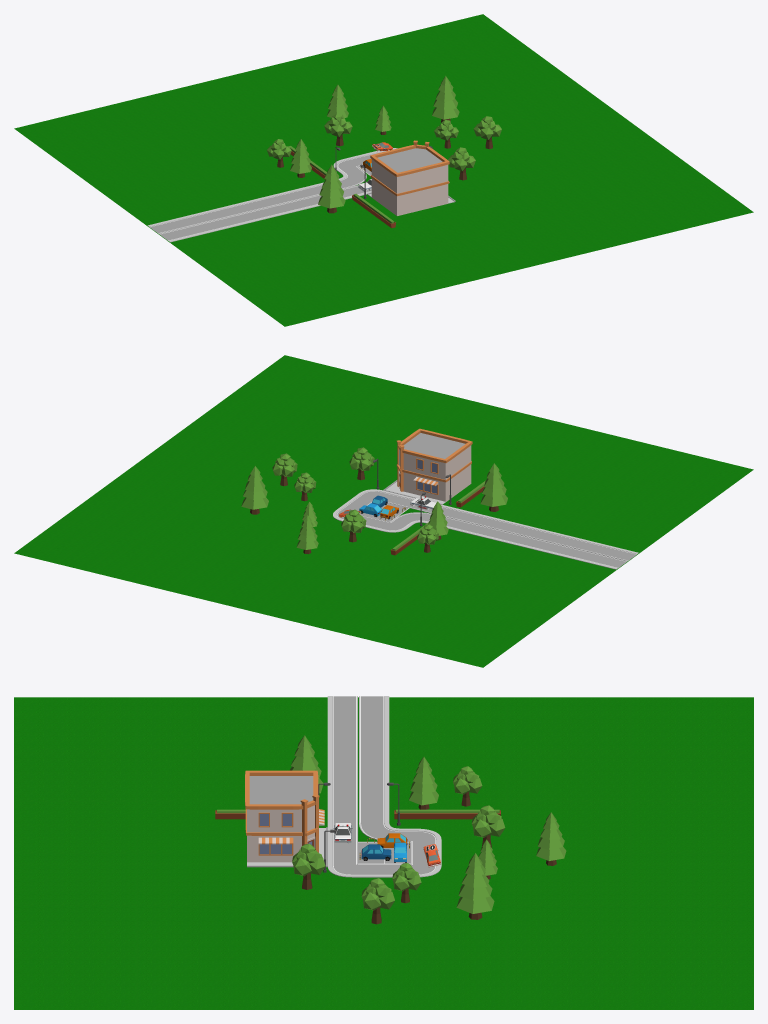
3 renders of one model, top to bottom at view 1: azimuth 30°, elevation 25°; view 2: azimuth 150°, elevation 25°; view 3: azimuth 270°, elevation 25°, orthographic. The views are drawn at different scales.
Visible parts, largest first — view 1: grass, road-asphalt_mat, house-facade01_mat, trees-plant_mat, trees-plant_mat.001, road-board_mat, house-facade02_mat, house-asphalt_mat, road-lines_mat; view 2: grass, road-asphalt_mat, trees-plant_mat, house-facade01_mat, road-board_mat, trees-plant_mat.001, house-facade02_mat, house-asphalt_mat, road-lines_mat; view 3: grass, road-asphalt_mat, trees-plant_mat, trees-plant_mat.001, road-board_mat, house-facade02_mat, house-facade01_mat, house-asphalt_mat, trees-bark_mat, road-lines_mat, plants-vase_mat, house-windows (+1 smaller).
Part boxes in pixels (x1,y1,x2,y2): grass: (14,14,753,326); road-asphalt_mat: (150,151,386,240); house-facade01_mat: (371,159,449,215); trees-plant_mat: (290,76,459,208); trees-plant_mat.001: (267,113,501,171); road-board_mat: (147,148,397,242); house-facade02_mat: (370,140,449,196); house-asphalt_mat: (377,148,442,172); road-lines_mat: (149,150,389,240); grass: (14,355,753,667); road-asphalt_mat: (336,491,636,567); trees-plant_mat: (241,463,507,549); house-facade01_mat: (398,445,471,501); road-board_mat: (333,489,638,569); trees-plant_mat.001: (272,447,438,544); house-facade02_mat: (396,428,472,494); house-asphalt_mat: (404,433,465,458); road-lines_mat: (336,491,636,567); grass: (14,697,753,1009); road-asphalt_mat: (332,696,436,874); trees-plant_mat: (290,735,566,913); trees-plant_mat.001: (292,766,505,910); road-board_mat: (327,696,441,877); house-facade02_mat: (245,770,324,855); house-facade01_mat: (247,805,324,862); house-asphalt_mat: (249,776,313,804); trees-bark_mat: (302,792,556,924); road-lines_mat: (333,696,436,874); plants-vase_mat: (215,810,500,819); house-windows: (259,814,312,854).
Bounding box in the file's own units: 1800 × 198 × 1800.
17 materials, 6 textured.
